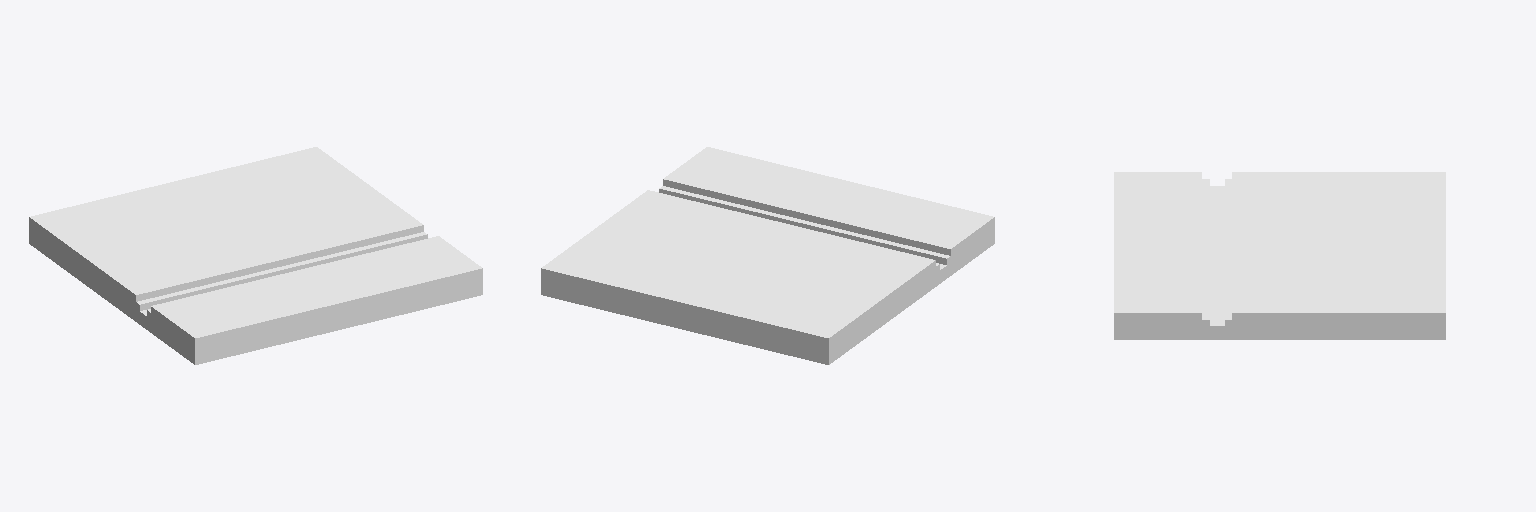
The model's file is Boden.obj.
The picture shows the model from 3 angles: view 1: azimuth 30°, elevation 25°; view 2: azimuth 150°, elevation 25°; view 3: azimuth 270°, elevation 25°; orthographic projection.
Size of the model in its own units: 45 by 4 by 45.